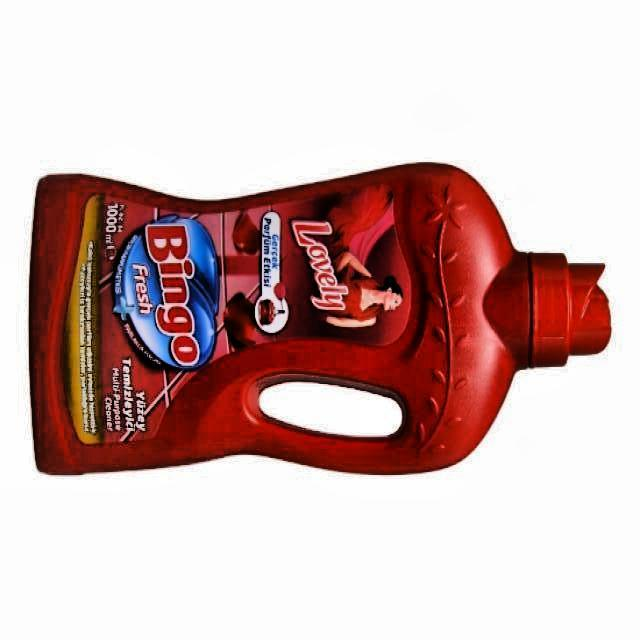plastic: (29, 164, 610, 474)
